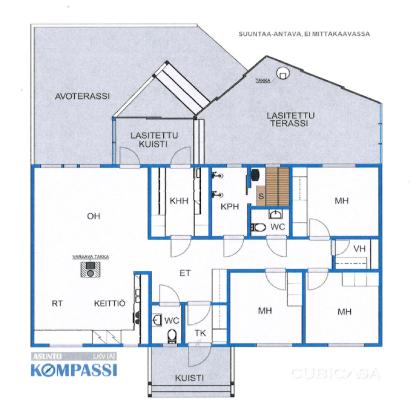door: (262, 268, 289, 293), (168, 234, 192, 258), (188, 300, 210, 326), (262, 236, 291, 255), (118, 146, 140, 170), (158, 283, 180, 307), (188, 344, 210, 367), (168, 148, 192, 169), (222, 234, 243, 258), (308, 219, 330, 240), (308, 267, 328, 289), (328, 239, 351, 256)
window: (255, 344, 293, 349), (323, 163, 356, 168), (328, 343, 364, 347), (49, 343, 82, 347), (42, 164, 62, 170), (64, 164, 77, 170), (81, 165, 98, 169), (265, 164, 280, 168), (124, 343, 138, 347), (226, 163, 240, 167)
zone: (34, 27, 379, 165), (35, 169, 150, 343), (292, 167, 379, 235), (306, 272, 378, 342), (231, 272, 301, 342), (150, 240, 225, 302), (149, 346, 232, 397), (151, 169, 208, 234), (226, 238, 330, 268), (212, 166, 247, 236), (185, 305, 225, 343), (250, 167, 286, 206), (152, 305, 180, 342), (250, 210, 287, 236)
